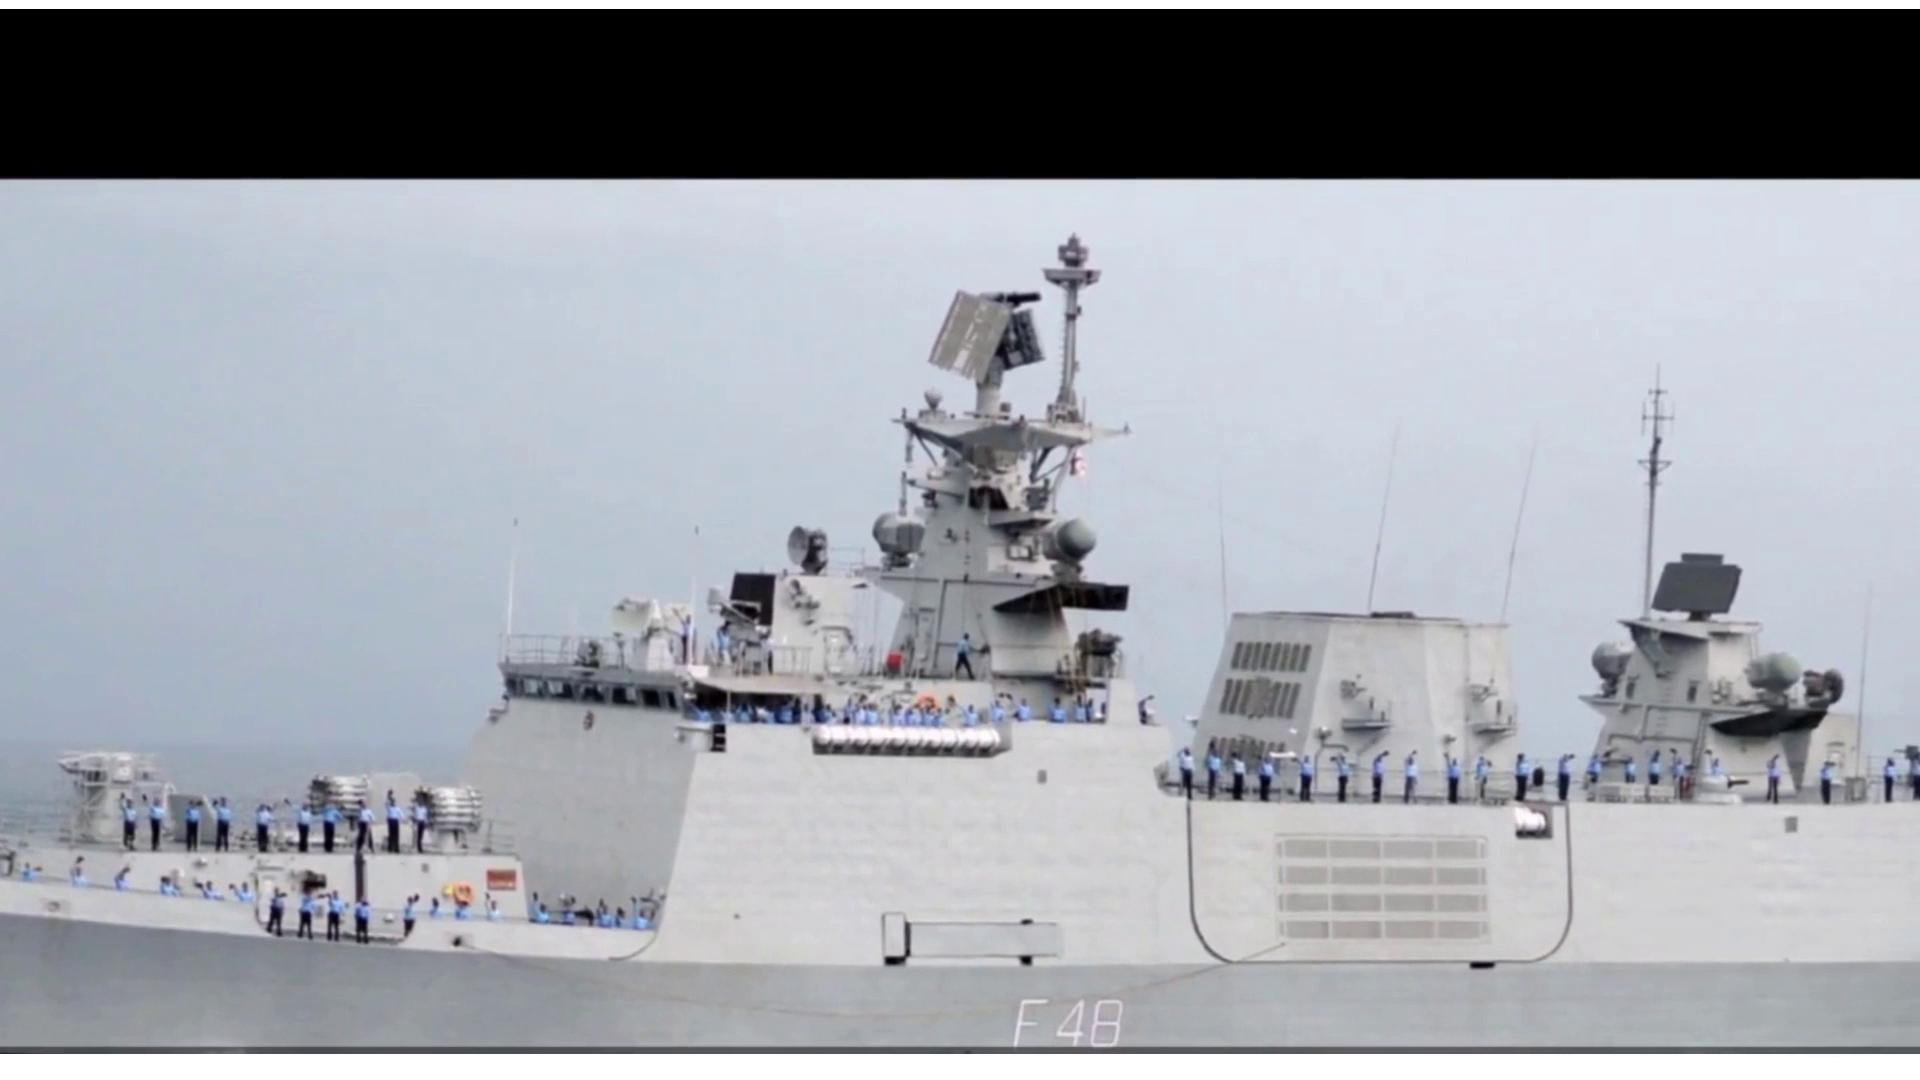OCR: (971, 992, 1127, 1054)
